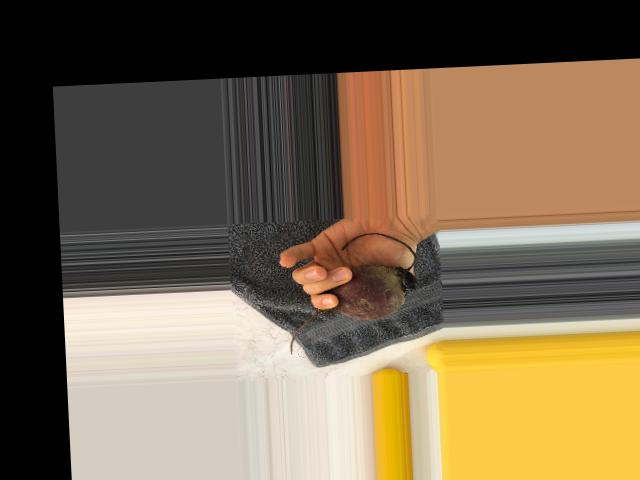beet: (284, 230, 419, 354)
